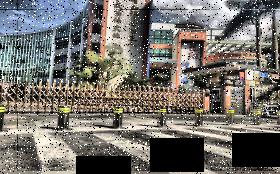bench: (54, 103, 70, 132), (153, 104, 168, 128), (110, 105, 124, 130), (191, 104, 204, 127)
